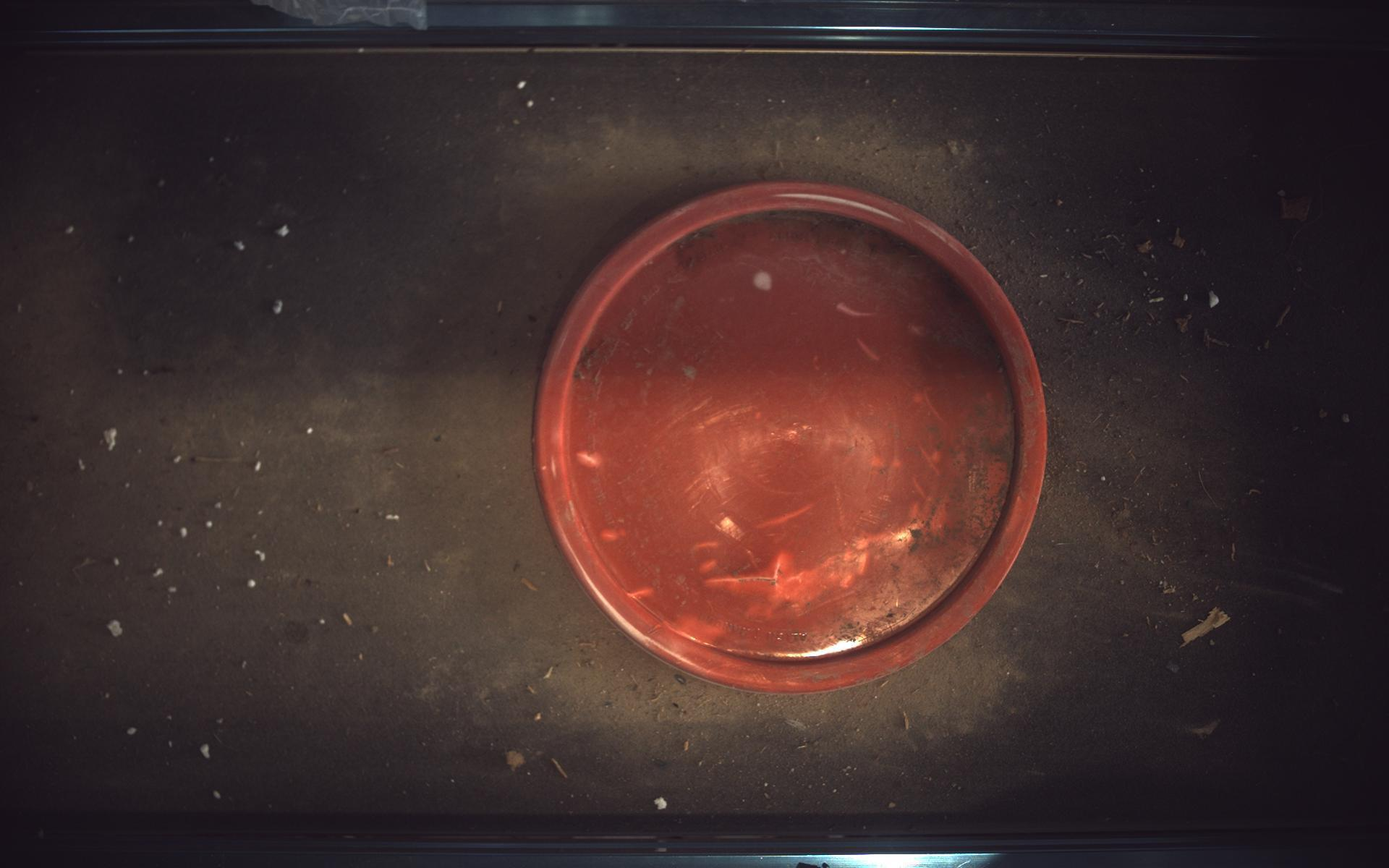plastic: (536, 182, 1048, 693)
